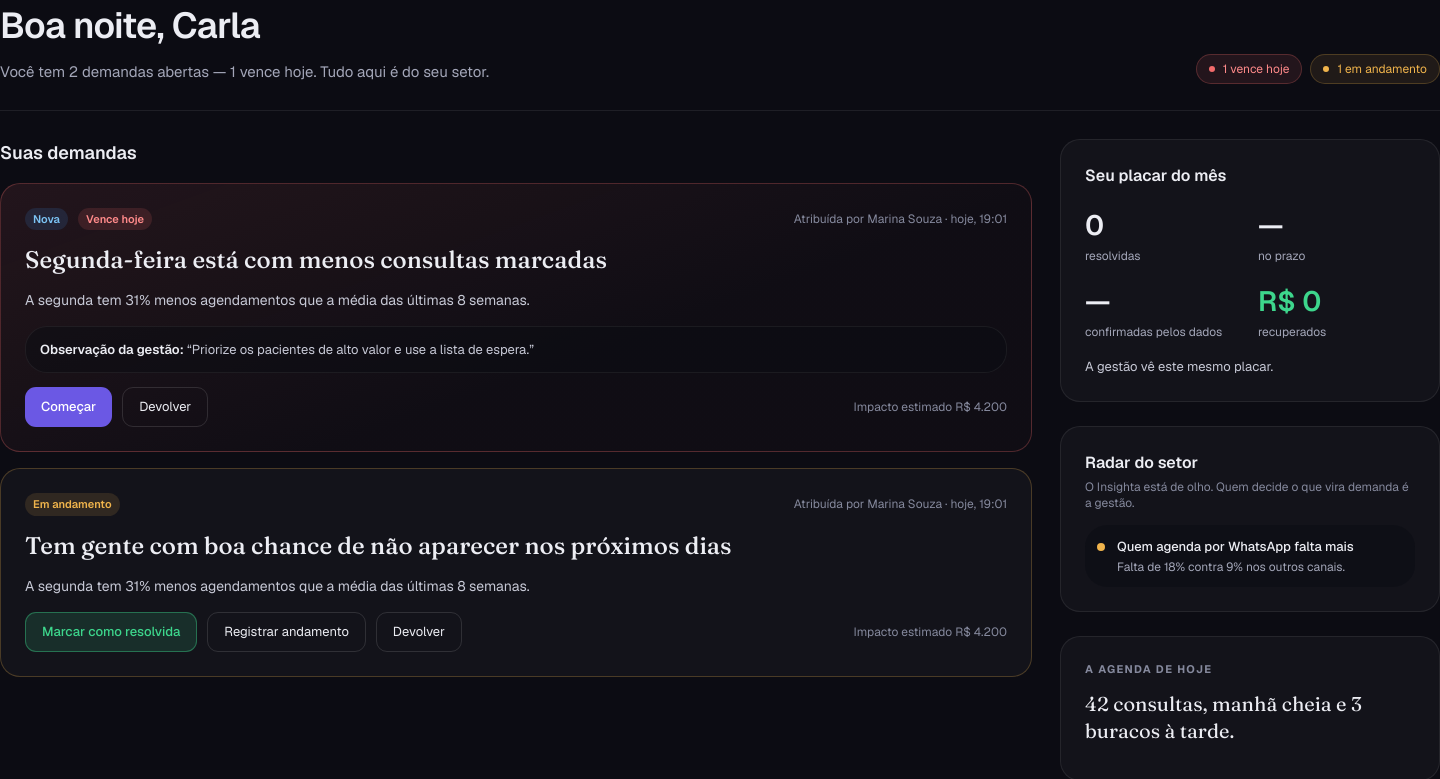
CoordinatorHomePage (canvas Coordenador) › começa, resolve com o que foi feito e devolve com motivo
Click the button "Começar": [69, 407] box [25,387,112,427]
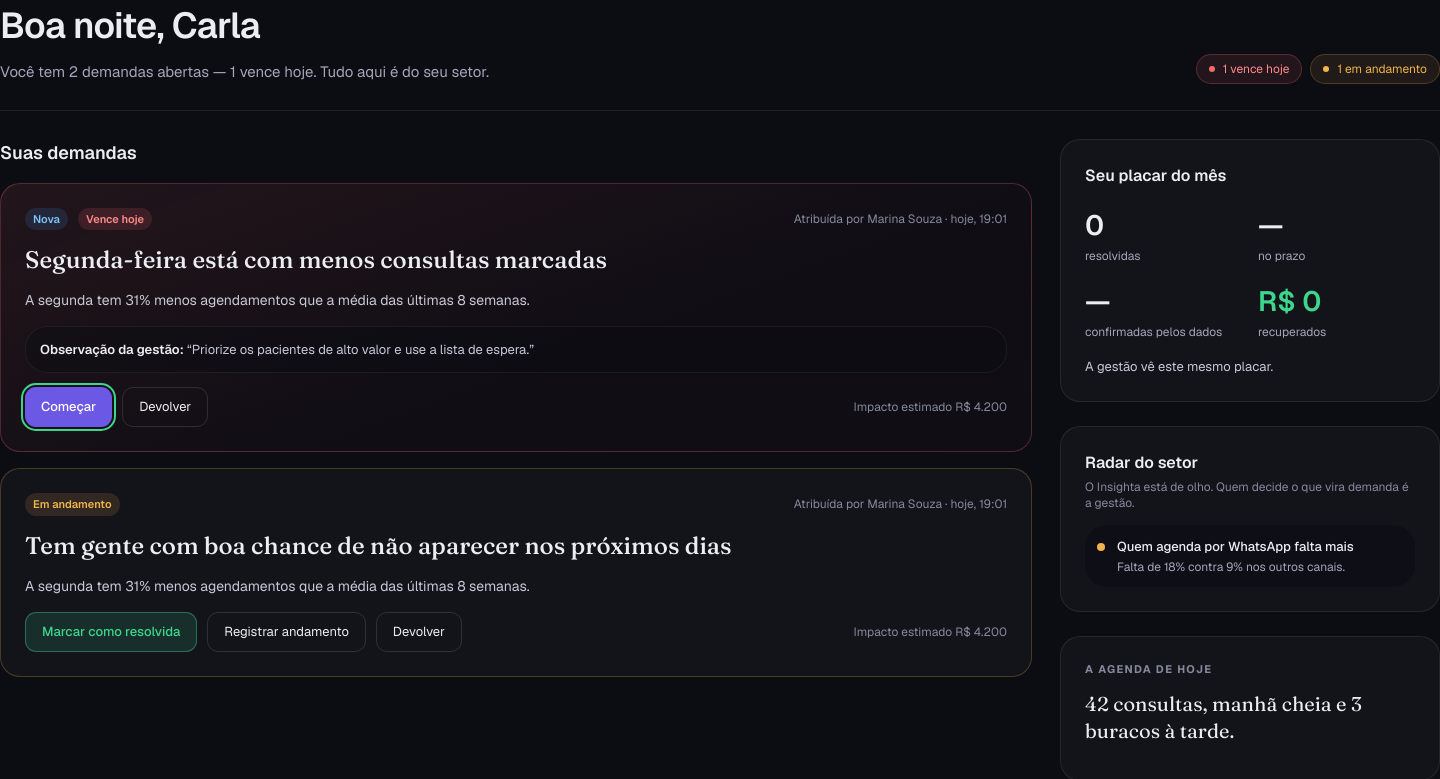
Click the button "Marcar como resolvida": [111, 632] box [25,612,197,652]
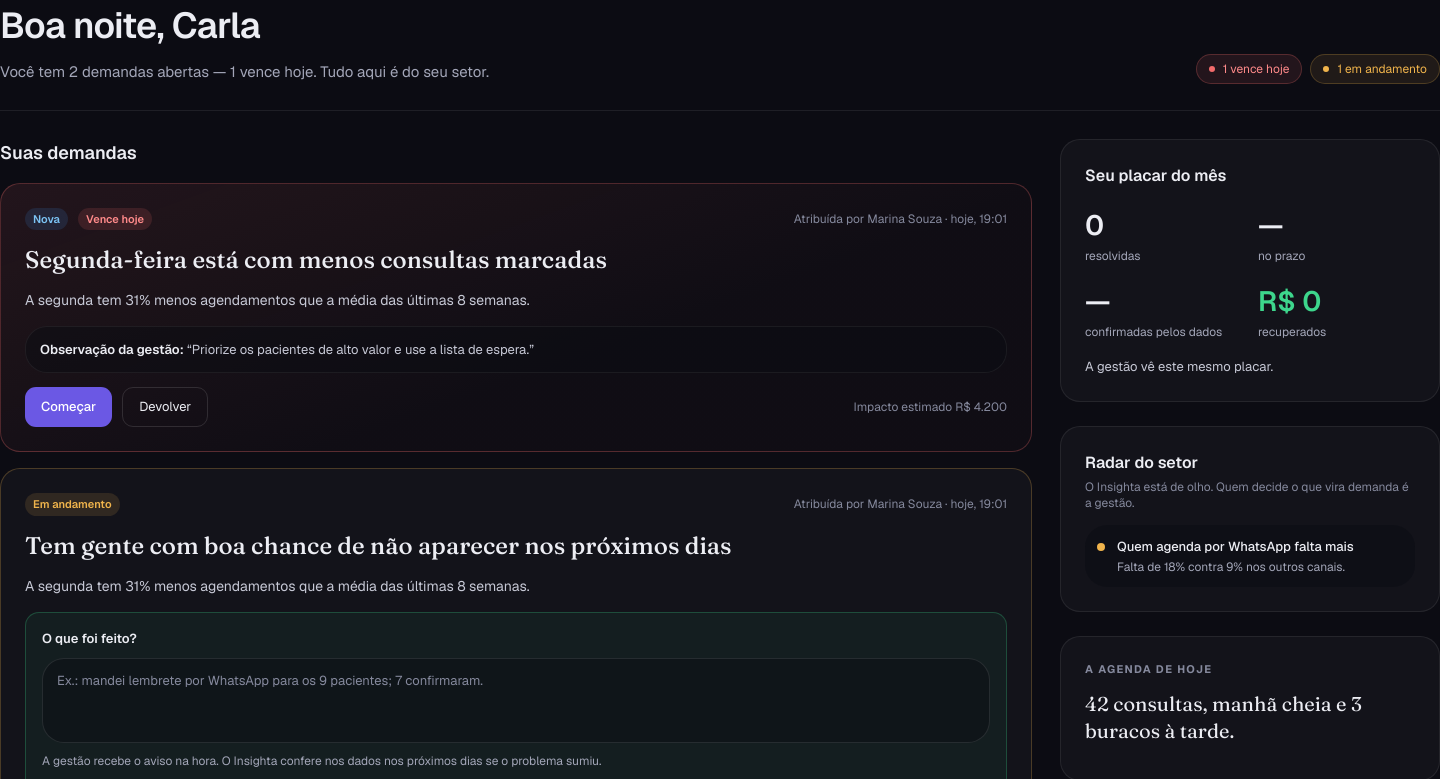
In the text box labelled "O que foi feito?": [516, 700] box [42,658,990,742], type "Mandei lembrete para os 9 pacientes; 7 confirmaram."
(page scrolled)
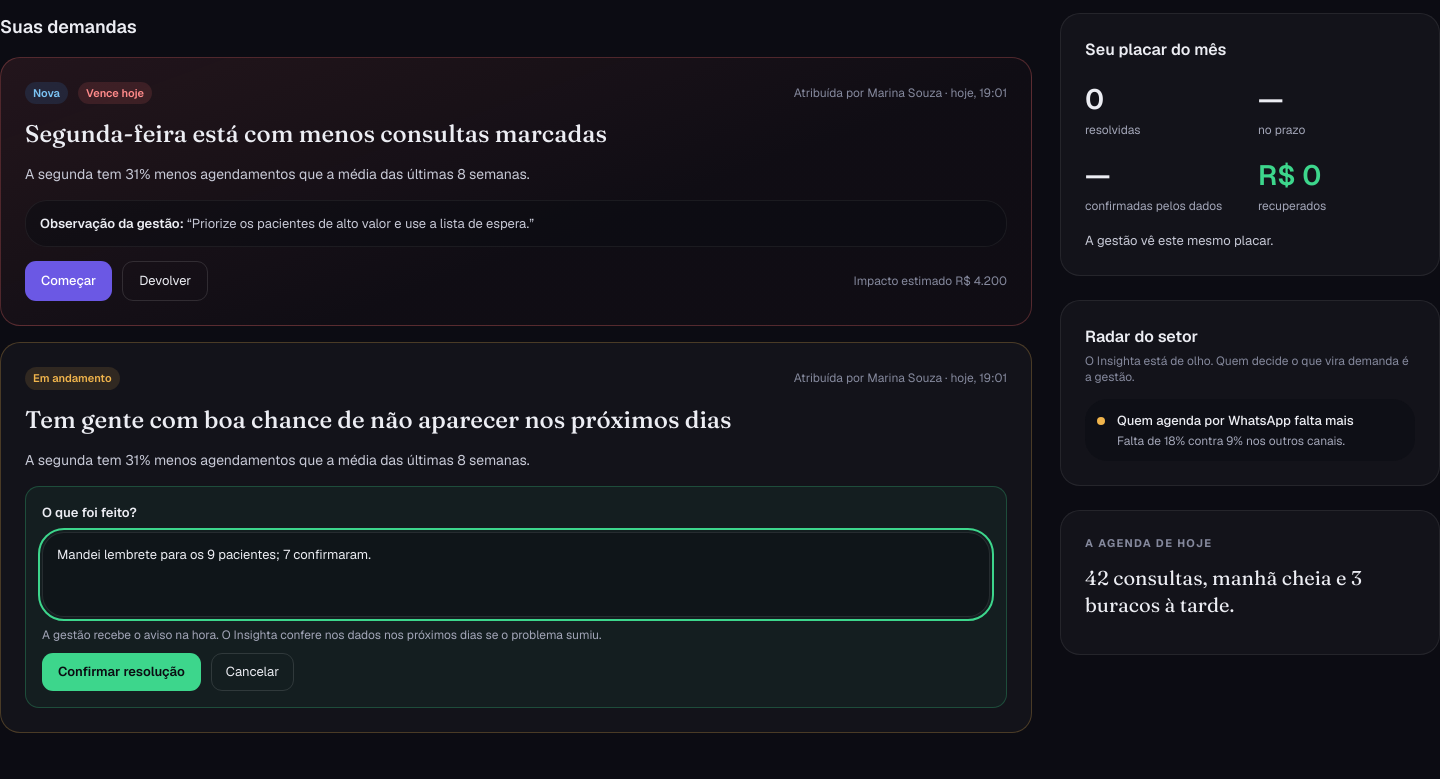
Click the button "Confirmar resolução": [121, 672] box [42,652,201,690]
(page scrolled)
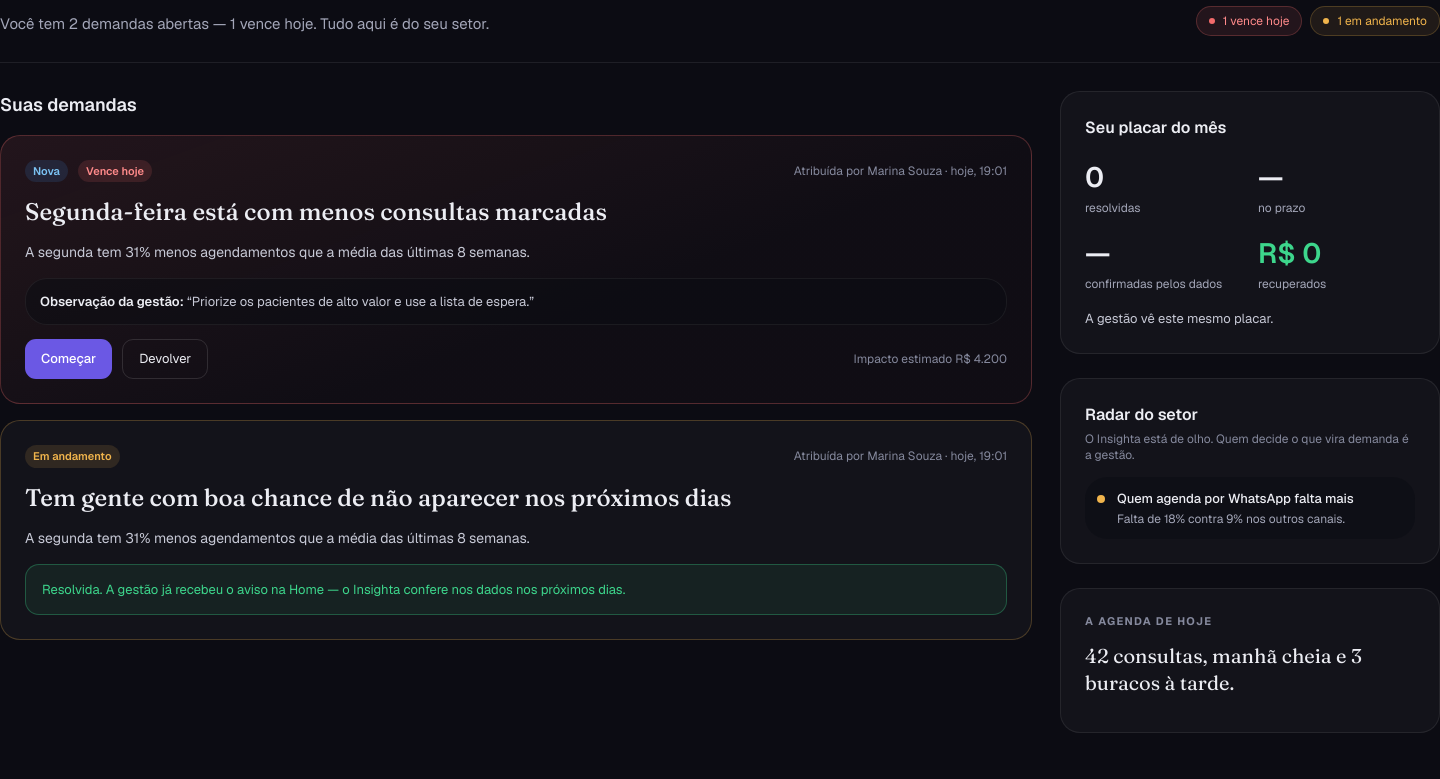
Expected: the text "A gestão já recebeu o aviso na Home" is shown, [42,580,625,598]
